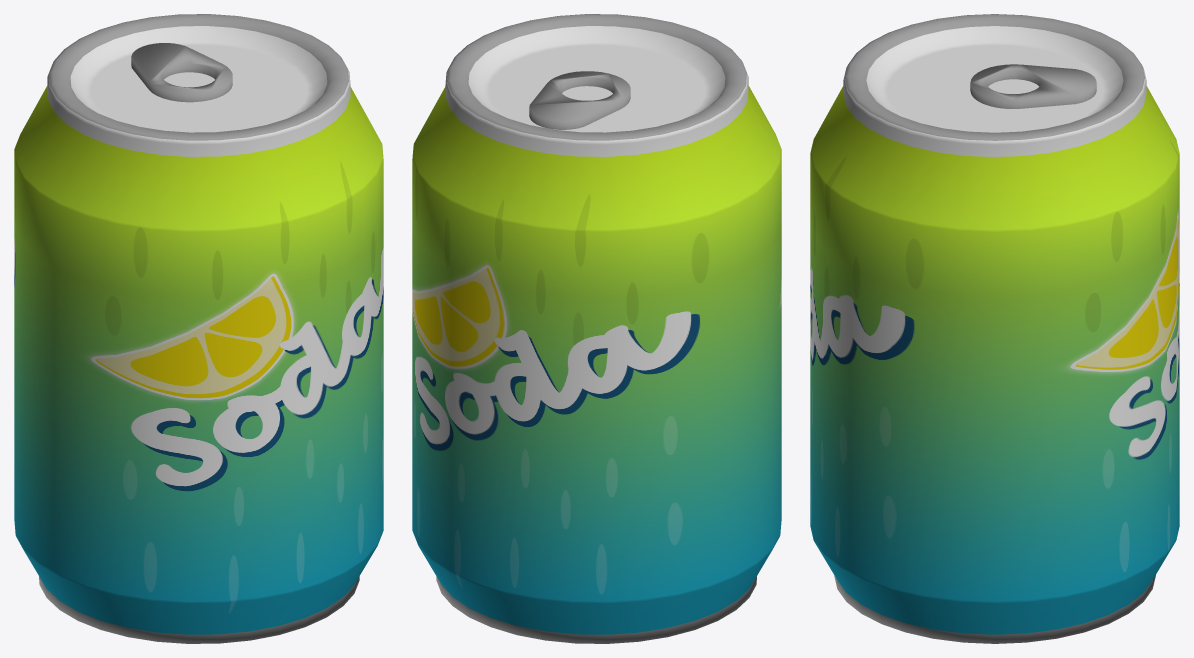
Rendered from Soda 2.fbx.
3 renders of one model, left to right at view 1: azimuth 30°, elevation 25°; view 2: azimuth 150°, elevation 25°; view 3: azimuth 270°, elevation 25°, orthographic.
Visible parts, largest first — view 1: Soda 2; view 2: Soda 2; view 3: Soda 2.
Part boxes in pixels (x1,y1,x2,y2): Soda 2: (14, 14, 383, 643); Soda 2: (412, 14, 781, 643); Soda 2: (810, 14, 1179, 643).
Size of the model in its own units: 7.86 by 11.73 by 7.86.
